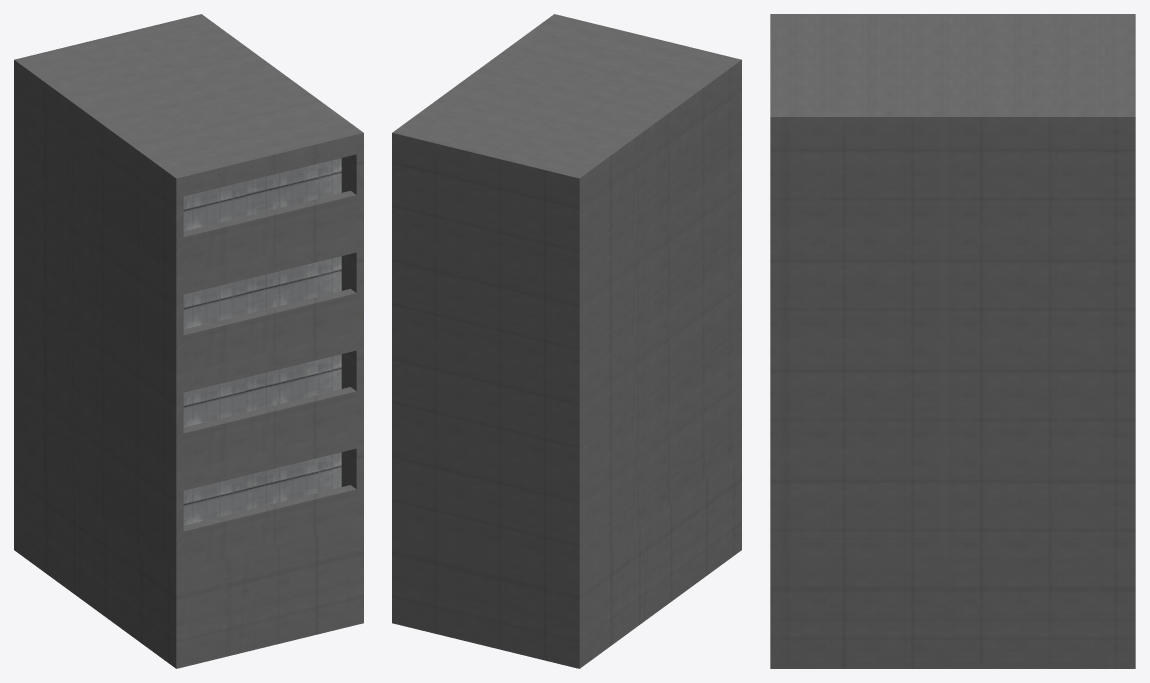
Rendered from BgMD_Building_05_01.fbx.
The picture shows the model from 3 angles, left to right: view 1: azimuth 30°, elevation 25°; view 2: azimuth 150°, elevation 25°; view 3: azimuth 270°, elevation 25°; orthographic projection. The views are drawn at different scales.
Visible parts, largest first — view 1: pCube122; view 2: pCube122; view 3: pCube122.
Boxes of the visible parts, <box> form: pCube122: <box>14,14,363,668</box>; pCube122: <box>392,14,741,668</box>; pCube122: <box>770,14,1135,668</box>.
Size of the model in its own units: 1000 by 2500 by 1500.
